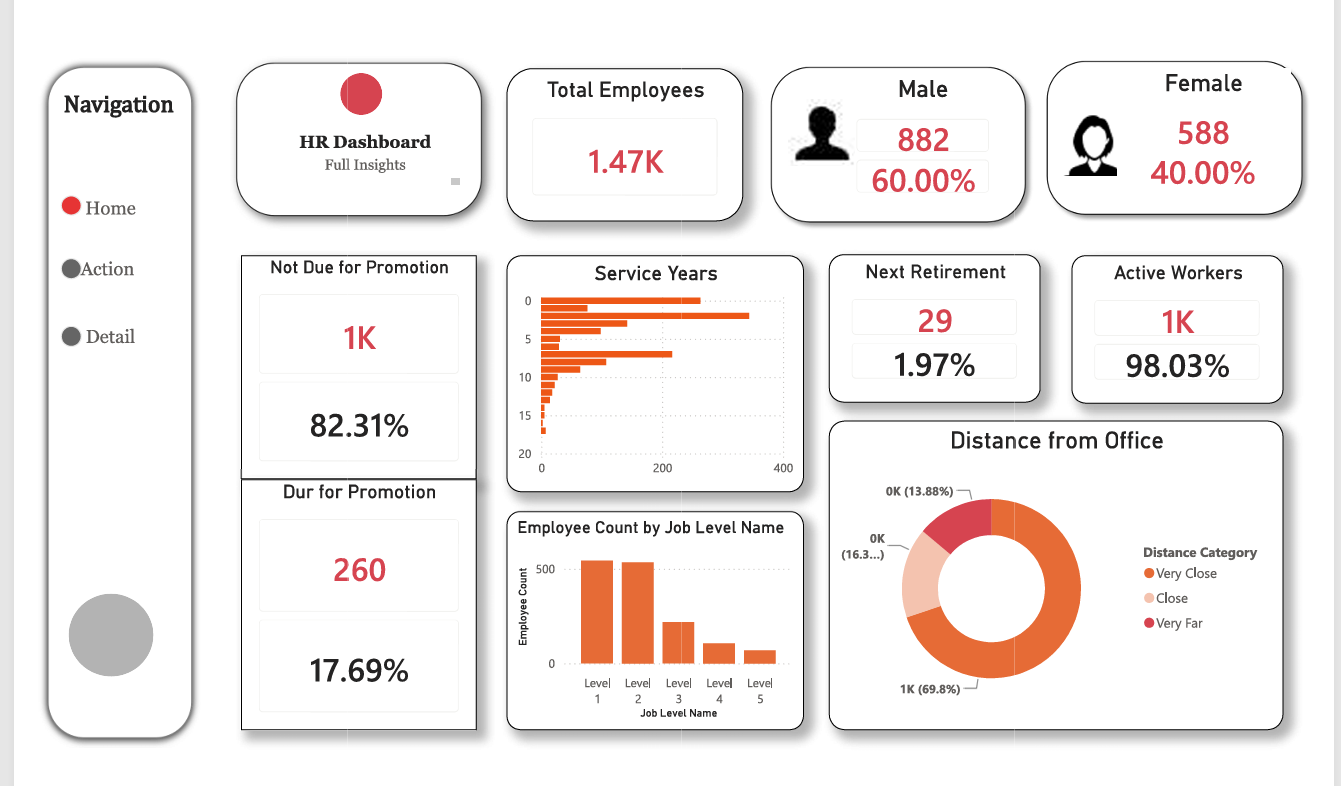

Layout of this report page (visuals, bound fields, positions):
{"tool":"powerbi","page":{"name":"Home","canvas":[1280,720],"ordinal":0},"visuals":[{"type":"shape","box":[1005.2,3.7,275.1,172.4],"z":0,"group":"g7"},{"type":"cardVisual","title":"Male","fields":{"Data":["in.Male","in.Male %"]},"box":[806.3,26.7,167.5,135.7],"z":0,"group":"g4"},{"type":"cardVisual","title":"Not Due for Promotion","fields":{"Data":["in.Not Due for Promotion","in.Not Due for Promotion %"]},"box":[204.2,207.9,237.2,225],"z":0},{"type":"shape","box":[185.1,0,276.4,183.4],"z":1000,"group":"g3"},{"type":"shape","box":[1.2,9.8,162.6,692.1],"z":1000,"group":"g1"},{"type":"image","box":[1030.1,60,64.5,72.7],"z":1000,"group":"g5"},{"type":"cardVisual","title":"Dur for Promotion","fields":{"Data":["in.Due for Promotions","in.Due for Promotion %"]},"box":[204.2,432.9,237.2,251.9],"z":1000},{"type":"shape","box":[303.8,25.2,42.3,42],"z":2000,"group":"g3"},{"type":"textbox","title":"Navigation","box":[21.6,42.7,123.5,62.4],"z":2000,"group":"g1"},{"type":"cardVisual","title":"Next Retirement","fields":{"Data":["in.Next Retirement","in.Next Retirement %"]},"box":[794.8,206.7,212.8,149.2],"z":2000},{"type":"cardVisual","title":"Female","fields":{"Data":["in.Female","in.Female %"]},"box":[1085,20.9,173.6,134.5],"z":3000,"group":"g5"},{"type":"textbox","title":"HR Dashboard","box":[226.2,83.1,204.2,59.9],"z":3000,"group":"g3"},{"type":"actionButton","box":[23.4,139.4,100.2,40.7],"z":3000,"group":"g1"},{"type":"cardVisual","title":"Active Workers","fields":{"Data":["in.Active Workers","in.Active Workers %"]},"box":[1039.4,207.9,212.8,149.2],"z":3000},{"type":"shape","box":[728,10,273.9,173.6],"z":4000,"group":"g6"},{"type":"shape","box":[23.4,147.8,20.6,19.7],"z":4000,"group":"g1"},{"type":"clusteredColumnChart","fields":{"Category":["in.Job Level Name"],"Y":["in.Employee Count"]},"box":[470.8,464.7,299.6,220.1],"z":4000},{"type":"actionButton","box":[11.2,201.2,118,40.7],"z":5000,"group":"g1"},{"type":"donutChart","title":"Distance from Office","fields":{"Category":["in.Distance Category"],"Y":["Sum(in.EmployeeCount)"],"Series":["in.Distance Category"]},"box":[794.8,374.2,457.3,310.6],"z":5000},{"type":"image","box":[755.1,33.8,67.2,101.5],"z":5003,"group":"g4"},{"type":"group","id":"g1","title":"Group 1","box":[1.2,9.8,162.6,692.1],"z":6000},{"type":"actionButton","box":[23.4,268.7,100.2,40.7],"z":6000,"group":"g1"},{"type":"group","id":"g2","title":"Group 2","box":[185.1,0,276.4,183.4],"z":7000},{"type":"shape","box":[23.4,211.1,20.6,21.1],"z":7000,"group":"g1"},{"type":"group","id":"g3","title":"Group 7","box":[185.1,0,276.4,183.4],"z":7001,"group":"g2"},{"type":"group","id":"g4","title":"Group 3","box":[755.1,26.7,218.7,135.7],"z":7001,"group":"g6"},{"type":"group","id":"g5","title":"Group 5","box":[1030.1,20.9,228.6,134.5],"z":7003,"group":"g7"},{"type":"cardVisual","title":"Total Employees","fields":{"Data":["CountNonNull(in.EmployeeCount)"]},"box":[470.8,19.6,238.5,154.1],"z":8000},{"type":"shape","box":[23.4,278.5,20.6,21.1],"z":8000,"group":"g1"},{"type":"group","id":"g6","title":"Group 4","box":[728,10,273.9,173.6],"z":9000},{"type":"shape","box":[31.6,548.2,85.1,82.9],"z":9000,"group":"g1"},{"type":"group","id":"g7","title":"Group 6","box":[1005.2,3.7,275.1,172.4],"z":10000},{"type":"clusteredBarChart","title":"Service Years","fields":{"Category":["in.YearsWithCurrManager"],"Y":["in.Employee Count"]},"box":[470.8,207.9,299.6,238.5],"z":11000}]}

Visuals, with their boxes on the page's 1280x720 design canvas (x1, y1, x2, y2). These are canvas units, not pixel positions in the 1341x786 screenshot, which may show the page scaled, cropped or inside an application window:
shape: locate(1005, 4, 1280, 176)
"Male" cardVisual: locate(806, 27, 974, 162)
"Not Due for Promotion" cardVisual: locate(204, 208, 441, 433)
shape: locate(185, 0, 462, 183)
shape: locate(1, 10, 164, 702)
image: locate(1030, 60, 1095, 133)
"Dur for Promotion" cardVisual: locate(204, 433, 441, 685)
shape: locate(304, 25, 346, 67)
"Navigation" textbox: locate(22, 43, 145, 105)
"Next Retirement" cardVisual: locate(795, 207, 1008, 356)
"Female" cardVisual: locate(1085, 21, 1259, 155)
"HR Dashboard" textbox: locate(226, 83, 430, 143)
actionButton: locate(23, 139, 124, 180)
"Active Workers" cardVisual: locate(1039, 208, 1252, 357)
shape: locate(728, 10, 1002, 184)
shape: locate(23, 148, 44, 168)
clusteredColumnChart - in.Job Level Name x in.Employee Count: locate(471, 465, 770, 685)
actionButton: locate(11, 201, 129, 242)
"Distance from Office" donutChart: locate(795, 374, 1252, 685)
image: locate(755, 34, 822, 135)
"Group 1" group: locate(1, 10, 164, 702)
actionButton: locate(23, 269, 124, 309)
"Group 2" group: locate(185, 0, 462, 183)
shape: locate(23, 211, 44, 232)
"Group 7" group: locate(185, 0, 462, 183)
"Group 3" group: locate(755, 27, 974, 162)
"Group 5" group: locate(1030, 21, 1259, 155)
"Total Employees" cardVisual: locate(471, 20, 709, 174)
shape: locate(23, 278, 44, 300)
"Group 4" group: locate(728, 10, 1002, 184)
shape: locate(32, 548, 117, 631)
"Group 6" group: locate(1005, 4, 1280, 176)
"Service Years" clusteredBarChart: locate(471, 208, 770, 446)
